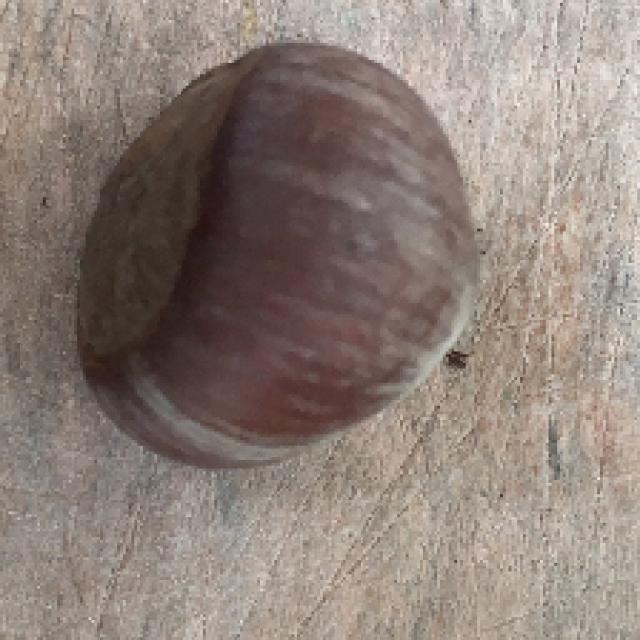damagedHazelnut: (60, 30, 501, 478)
